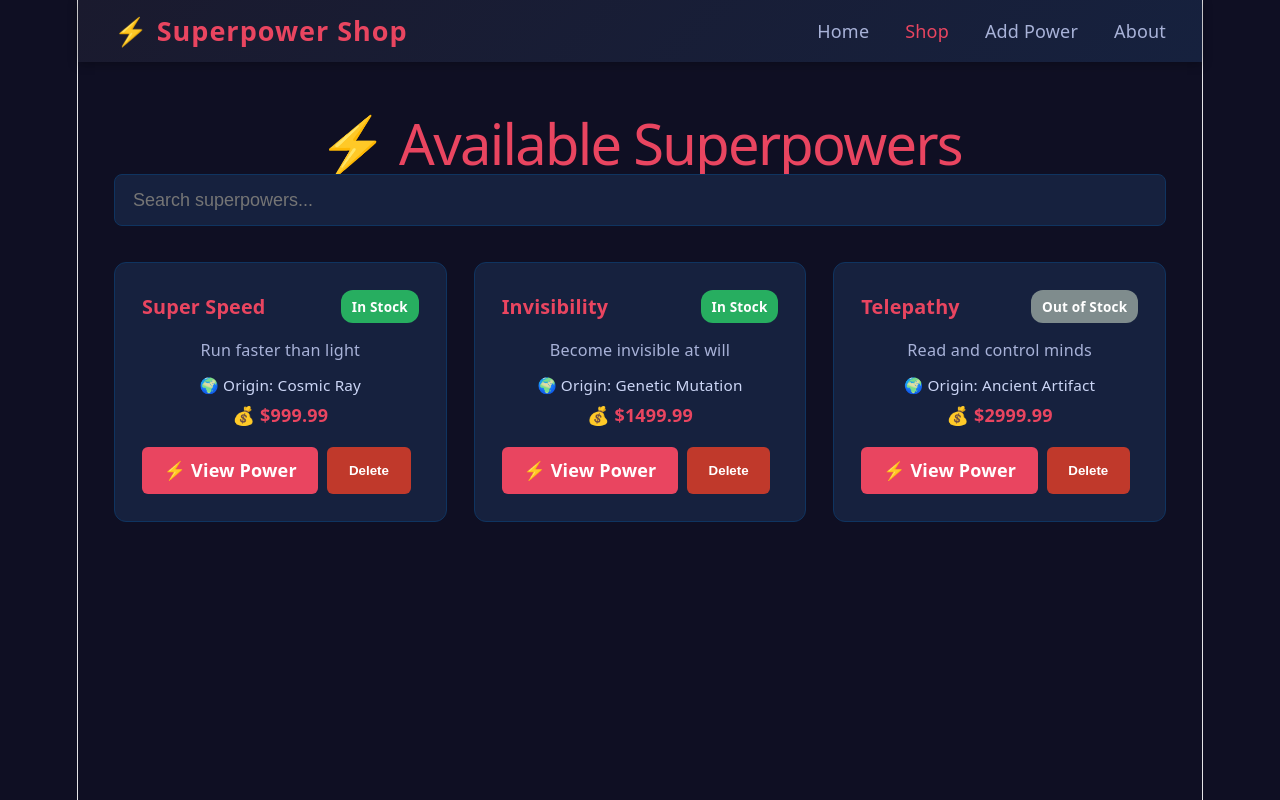
Search Superpowers › shows no results when search matches nothing
Expected: the heading "Super Speed" is shown, [142, 294, 266, 320]
In the field with placeholder "Search superpowers...": x=640, y=200 [114, 174, 1166, 226], type "zzznomatch"
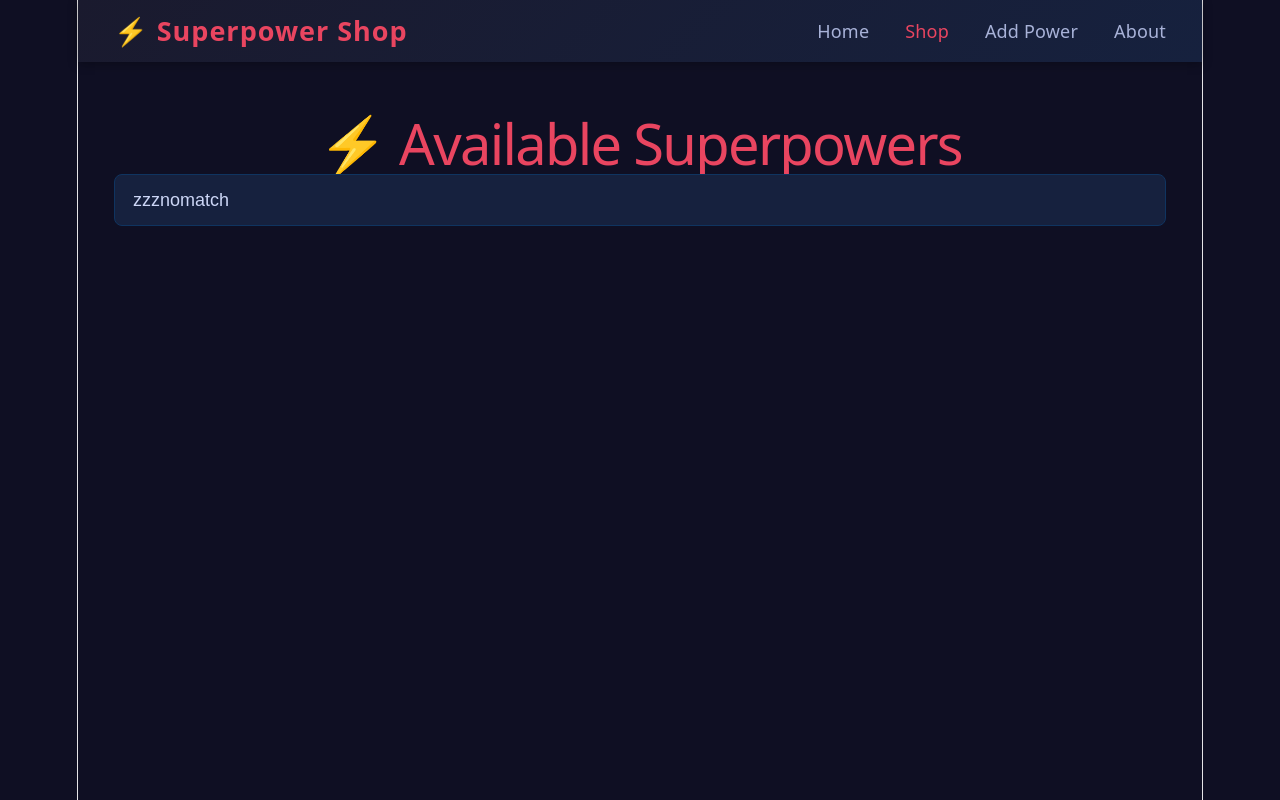
Now the heading "Super Speed" is gone
Now the heading "Invisibility" is gone
